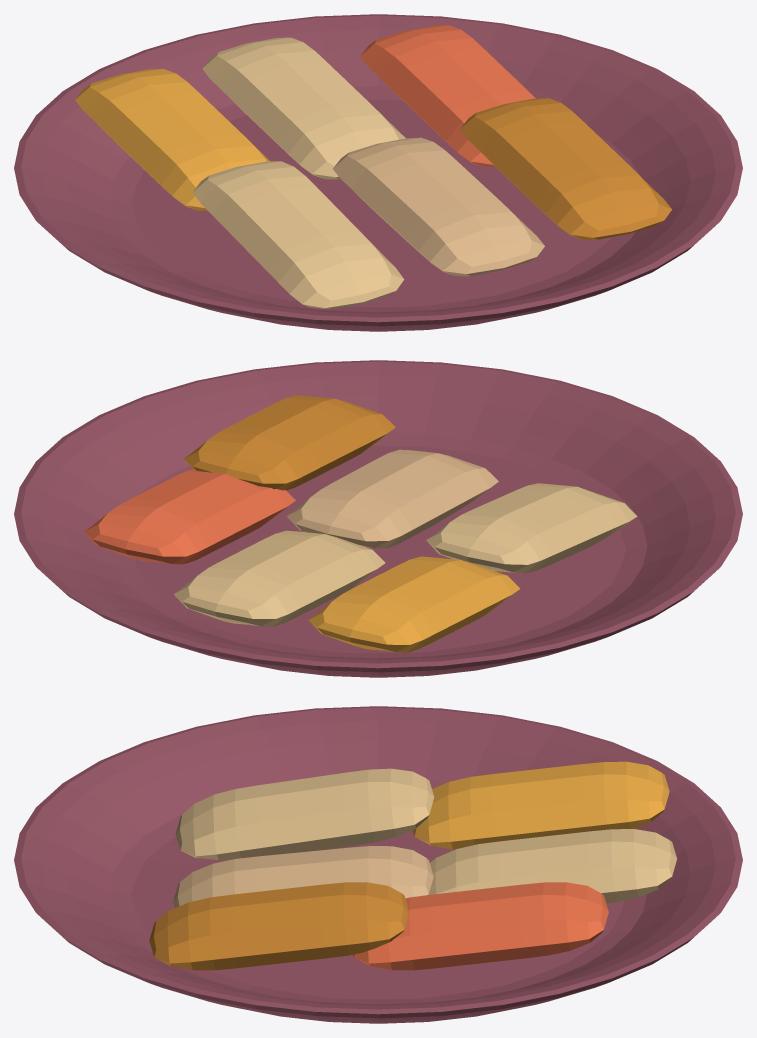
File: baglend .fbx
3 renders of one model, top to bottom at view 1: azimuth 30°, elevation 25°; view 2: azimuth 150°, elevation 25°; view 3: azimuth 270°, elevation 25°, orthographic.
Visible parts, largest first — view 1: Cylinder, Cube.003, Cube.005, Cube.004, Cube.001, Cube.002, Cube; view 2: Cylinder, Cube.002, Cube.001, Cube.004, Cube, Cube.005, Cube.003; view 3: Cylinder, Cube.005, Cube.003, Cube.002, Cube, Cube.001, Cube.004.
Boxes of the visible parts, bbox=[...] form: Cylinder: bbox=[14, 14, 742, 331]; Cube.003: bbox=[192, 161, 404, 309]; Cube.005: bbox=[460, 98, 671, 239]; Cube.004: bbox=[333, 137, 544, 276]; Cube.001: bbox=[202, 37, 405, 179]; Cube.002: bbox=[75, 69, 269, 210]; Cube: bbox=[360, 25, 535, 166]; Cylinder: bbox=[14, 360, 742, 677]; Cube.002: bbox=[308, 556, 520, 652]; Cube.001: bbox=[174, 530, 385, 626]; Cube.004: bbox=[287, 449, 498, 548]; Cube: bbox=[84, 469, 295, 564]; Cube.005: bbox=[184, 395, 395, 490]; Cube.003: bbox=[426, 483, 637, 573]; Cylinder: bbox=[14, 706, 742, 1023]; Cube.005: bbox=[149, 882, 407, 970]; Cube.003: bbox=[175, 768, 434, 859]; Cube.002: bbox=[412, 761, 669, 849]; Cube: bbox=[353, 882, 608, 970]; Cube.001: bbox=[428, 829, 676, 903]; Cube.004: bbox=[173, 846, 433, 907].
Size of the model in its own units: 231 by 30.61 by 231.
